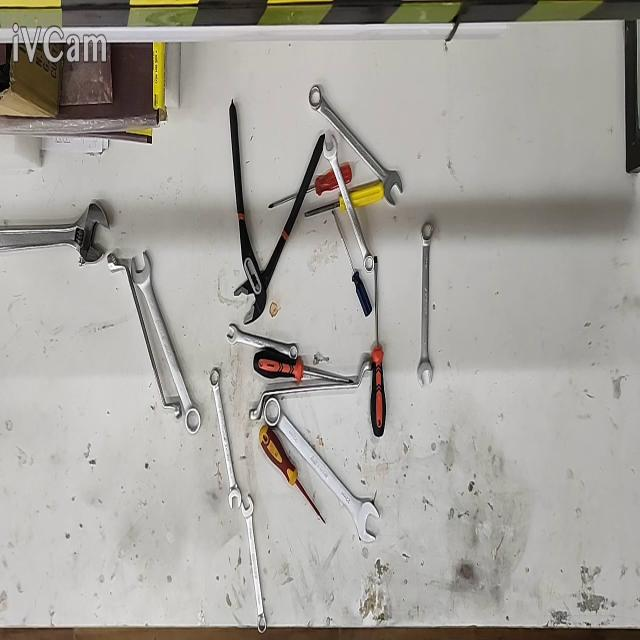Screwdriver: (259, 425, 326, 525), (331, 209, 372, 318), (268, 165, 352, 208), (254, 351, 353, 384), (305, 180, 384, 218), (370, 255, 386, 438)
